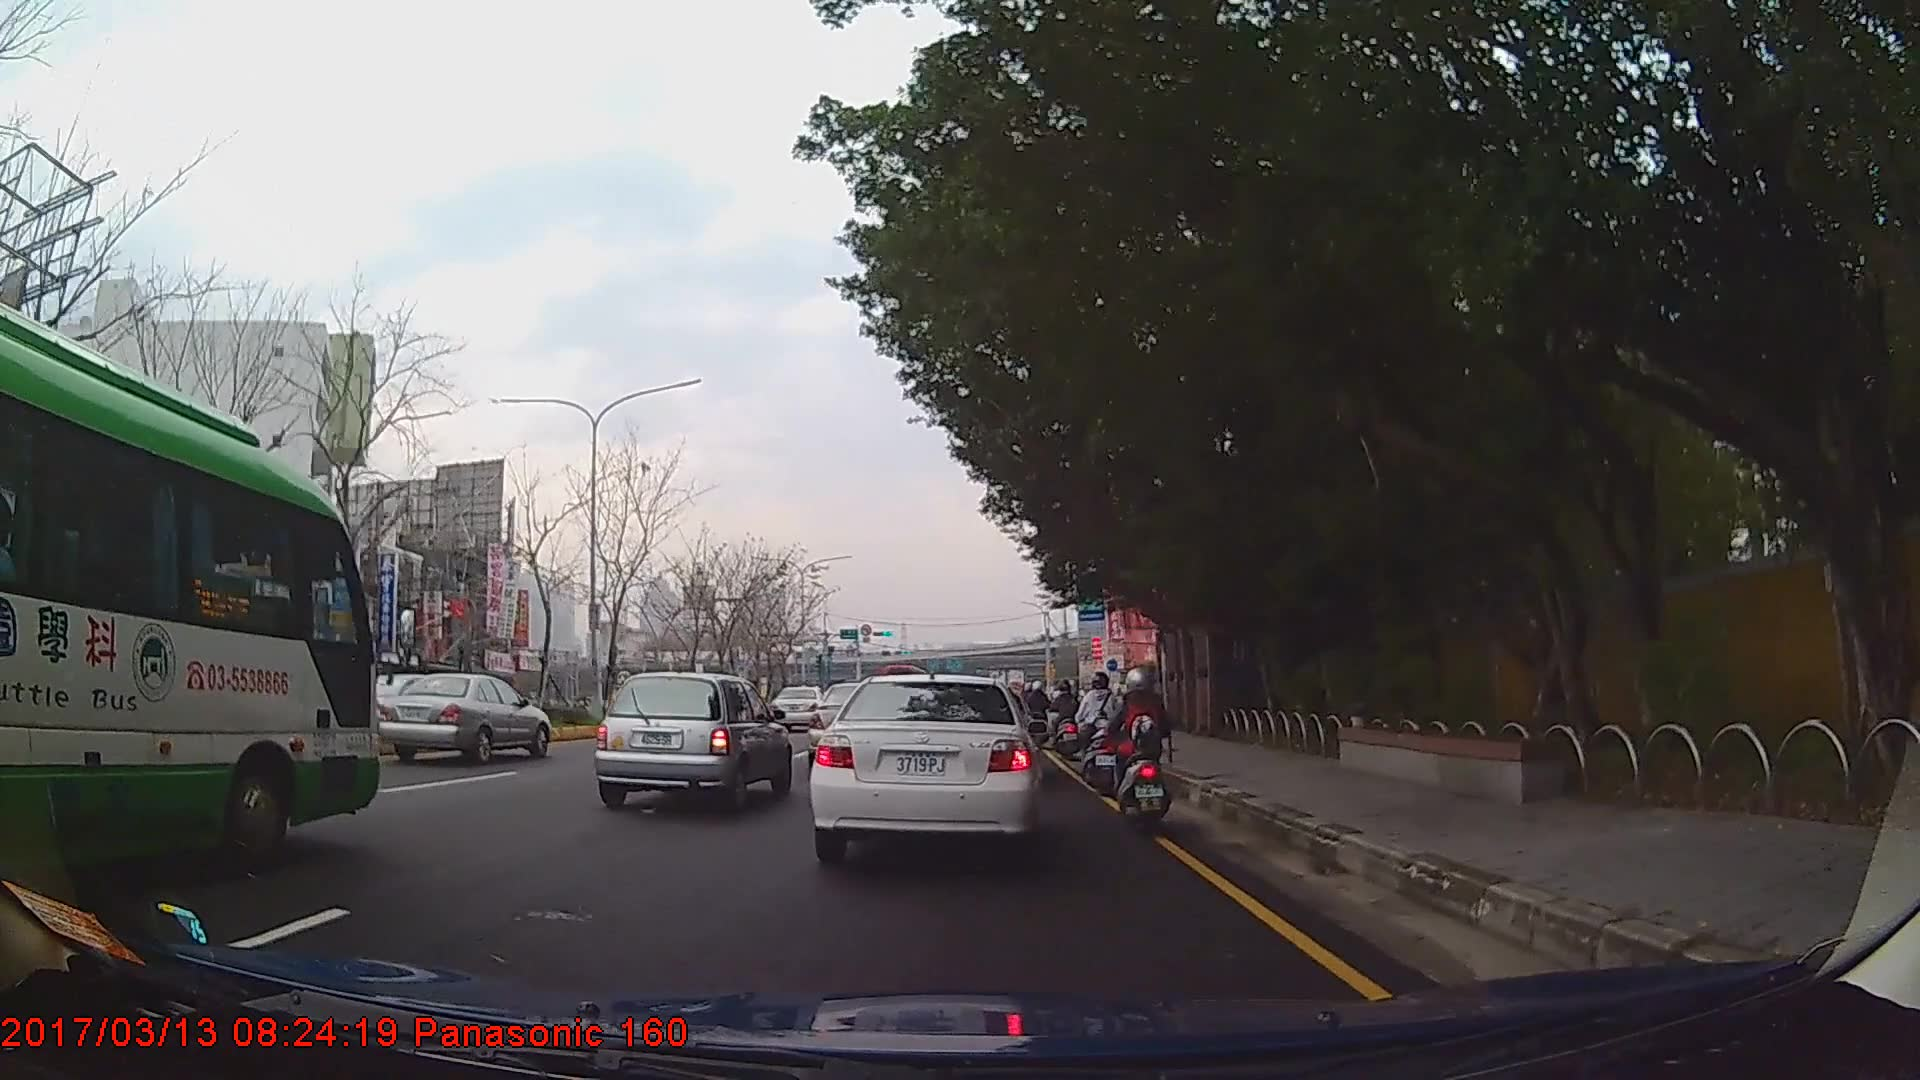rider: (1104, 661, 1164, 820), (1076, 669, 1121, 788), (1053, 681, 1080, 750)
vehicle: (0, 295, 381, 883), (807, 670, 1042, 865), (592, 671, 790, 811), (380, 671, 549, 765), (772, 682, 827, 726)
